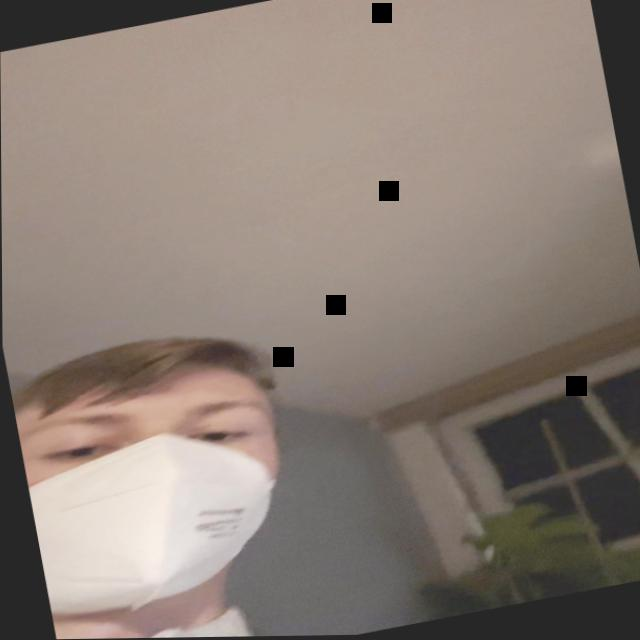Mask: (3, 301, 337, 640)
